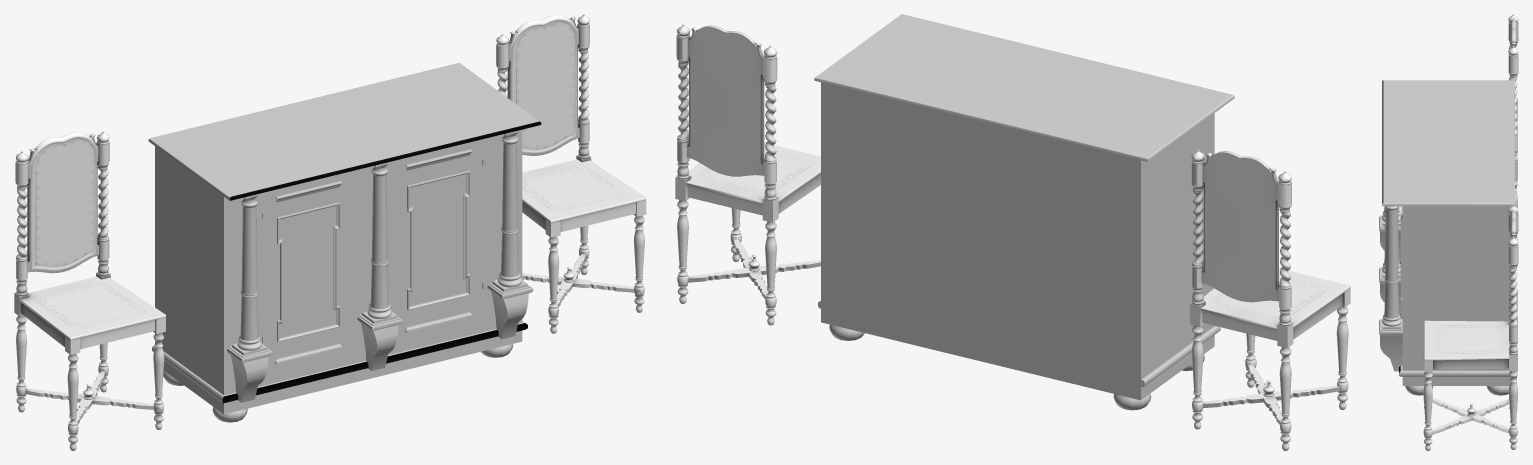
Rendered from antique furniture.fbx.
3 renders of one model, left to right at view 1: azimuth 30°, elevation 25°; view 2: azimuth 150°, elevation 25°; view 3: azimuth 270°, elevation 25°, orthographic. The views are drawn at different scales.
Parts seen in each view (by area): view 1: BOBY_LP, UP_LP, BACK_LP, BACK_LP1, SEAT_LP, COLUMN_LP, SEAT_LP1, DOOR_FURNITURE, COLUMN_DOWN_LP2, LARGE_LP1, LARGE_LP3, COLUMN_DOWN_LP (+7 smaller); view 2: BOBY_LP, UP_LP, BACK_LP, BACK_LP1, LARGE_LP1, LARGE_LP3, SEAT_LP, SEAT_LP1, MEDIUM_LP, MEDIUM_LP1, LARGE_LP, JUMPERS_LP (+4 smaller); view 3: UP_LP, BOBY_LP, SEAT_LP1, LARGE_LP3, COLUMN_LP, MEDIUM_LP1, COLUMN_DOWN_LP, LARGE_LP2, LEG_LP, JUMPERS_LP3, COLUMN_DOWN_LP2, JUMPERS_LP2 (+6 smaller).
Boxes of the visible parts, box(x1,y1,x2,y2) form: BOBY_LP: box(155, 131, 522, 414); UP_LP: box(148, 62, 541, 403); BACK_LP: box(27, 131, 99, 273); BACK_LP1: box(507, 14, 579, 155); SEAT_LP: box(20, 276, 166, 340); COLUMN_LP: box(237, 132, 522, 350); SEAT_LP1: box(522, 159, 646, 222); DOOR_FURNITURE: box(275, 149, 472, 364); COLUMN_DOWN_LP2: box(357, 160, 403, 370); LARGE_LP1: box(15, 162, 155, 412); LARGE_LP3: box(496, 45, 635, 274); COLUMN_DOWN_LP: box(230, 291, 528, 402); BOBY_LP: box(821, 82, 1214, 400); UP_LP: box(814, 14, 1234, 387); BACK_LP: box(1201, 151, 1278, 302); BACK_LP1: box(687, 25, 764, 176); LARGE_LP1: box(1191, 183, 1343, 450); LARGE_LP3: box(676, 57, 820, 325); SEAT_LP: box(1201, 268, 1350, 328); SEAT_LP1: box(686, 142, 820, 203); MEDIUM_LP: box(1190, 160, 1350, 397); MEDIUM_LP1: box(675, 35, 778, 271); LARGE_LP: box(1245, 306, 1348, 409); JUMPERS_LP: box(1203, 386, 1339, 408); UP_LP: box(1382, 80, 1514, 376); BOBY_LP: box(1402, 206, 1511, 385); SEAT_LP1: box(1424, 320, 1509, 360); LARGE_LP3: box(1433, 230, 1518, 449); COLUMN_LP: box(1382, 206, 1401, 326); MEDIUM_LP1: box(1424, 212, 1518, 416); COLUMN_DOWN_LP: box(1380, 231, 1402, 371); LARGE_LP2: box(1423, 340, 1432, 450); LEG_LP: box(1379, 214, 1509, 395); JUMPERS_LP3: box(1432, 398, 1508, 433); COLUMN_DOWN_LP2: box(1379, 208, 1400, 314); JUMPERS_LP2: box(1432, 399, 1509, 434).
Bounding box in the file's own units: 290 × 127 × 74.77.
